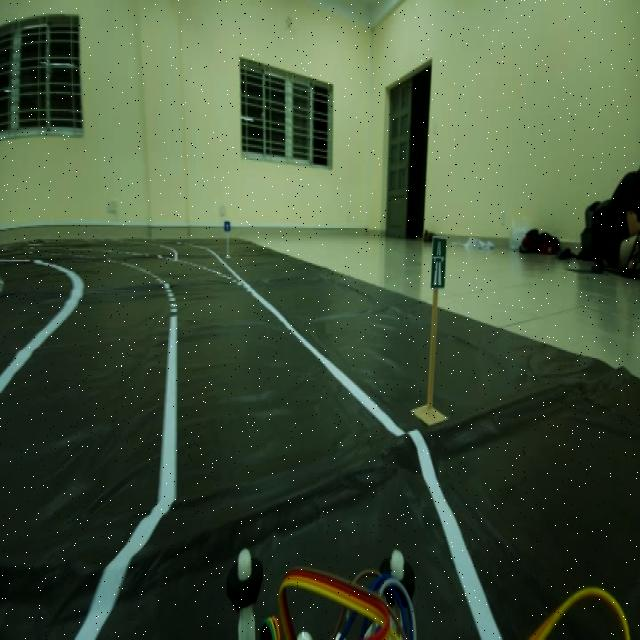highway_entry: (427, 229, 451, 302)
